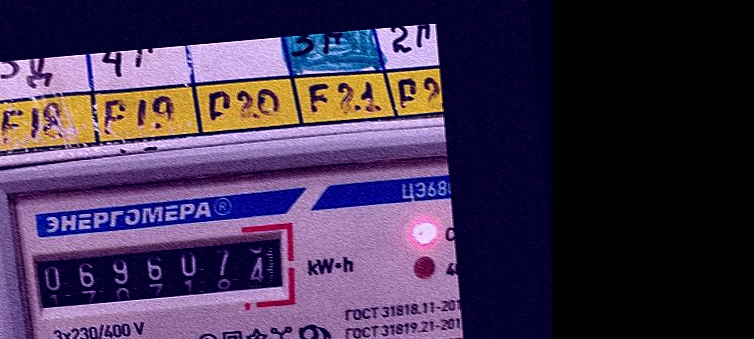0: (39, 261, 61, 292), (174, 248, 196, 277)
4: (243, 254, 264, 284)
6: (73, 259, 93, 288), (142, 251, 162, 280)
7: (209, 245, 231, 277)
9: (107, 256, 127, 286)
screen: (16, 217, 302, 328)
